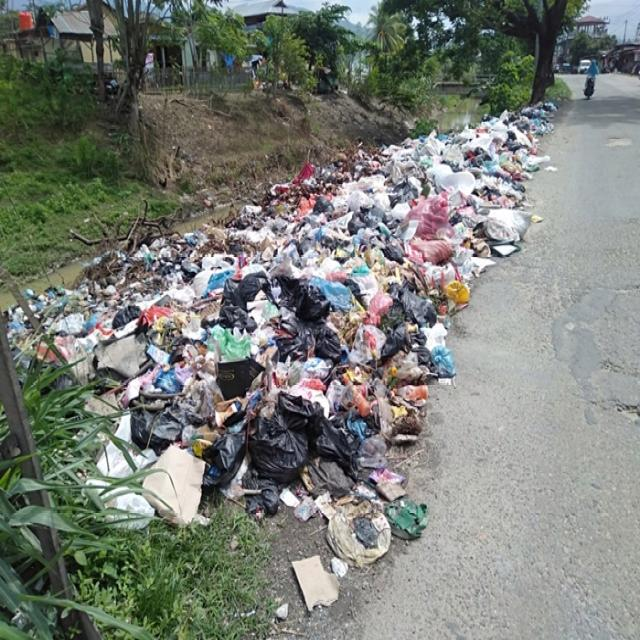trash: (25, 105, 560, 610)
